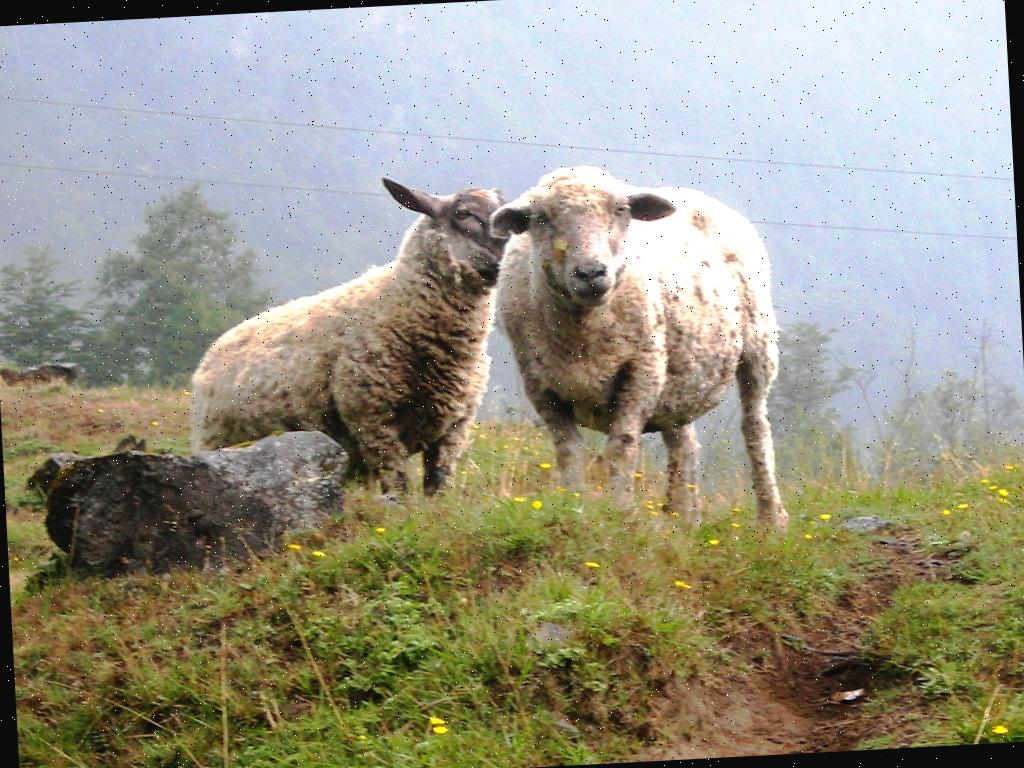Sheep: (488, 158, 792, 557), (175, 170, 520, 513)
